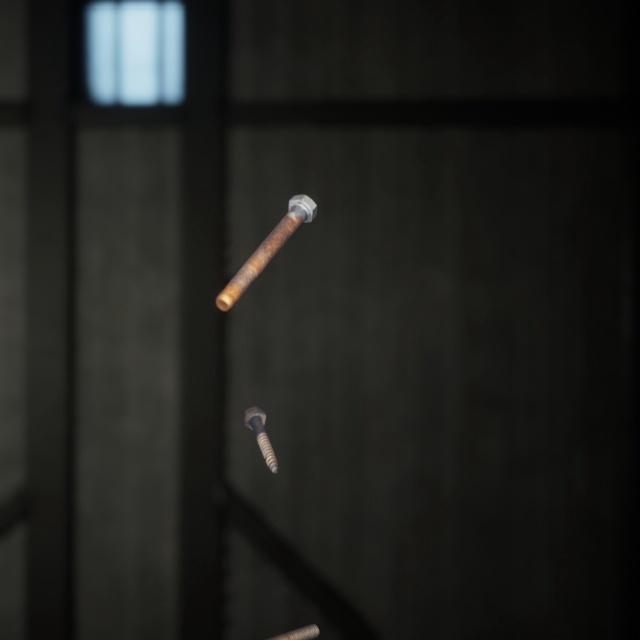bolt: (211, 174, 321, 298), (196, 595, 323, 640), (238, 381, 283, 456)
